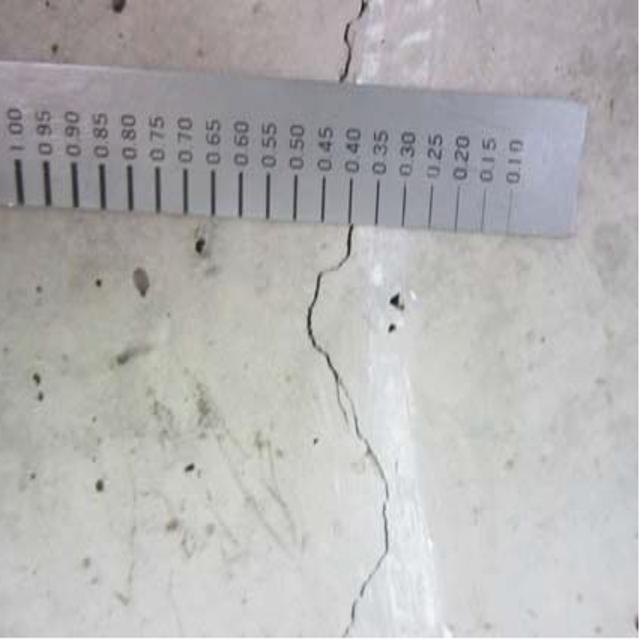crack: (287, 224, 397, 640), (327, 2, 376, 88)
